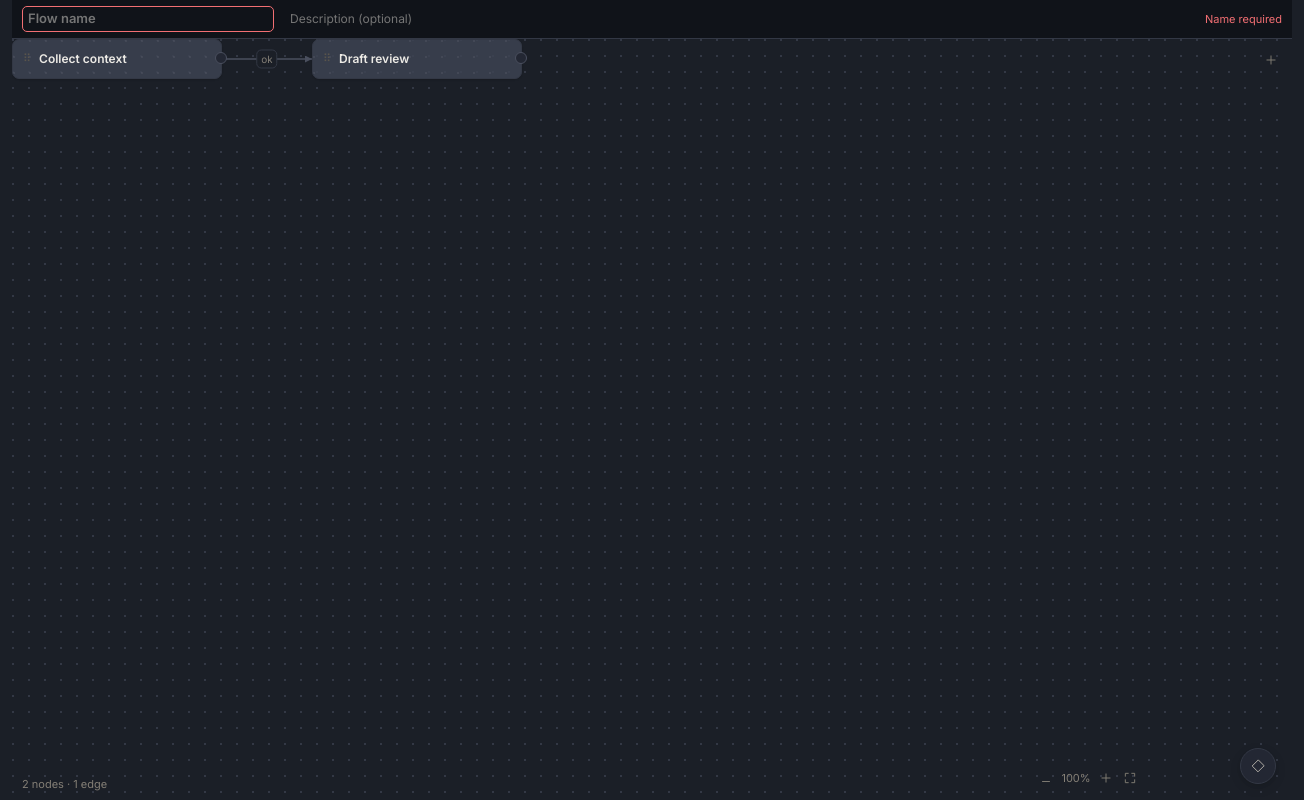
Test: the add menu (FLO-FR-07, FLO-FR-09, FLO-FR-15, FLO-FR-26 / FLO-FR-37, FLO-FR-38, FLO-FR-10) › dismisses the action control when it opens, and goes when the control does
Click the button named "Add to flow".
click(1271, 60)  # box x1=1258 y1=46 x2=1284 y2=72
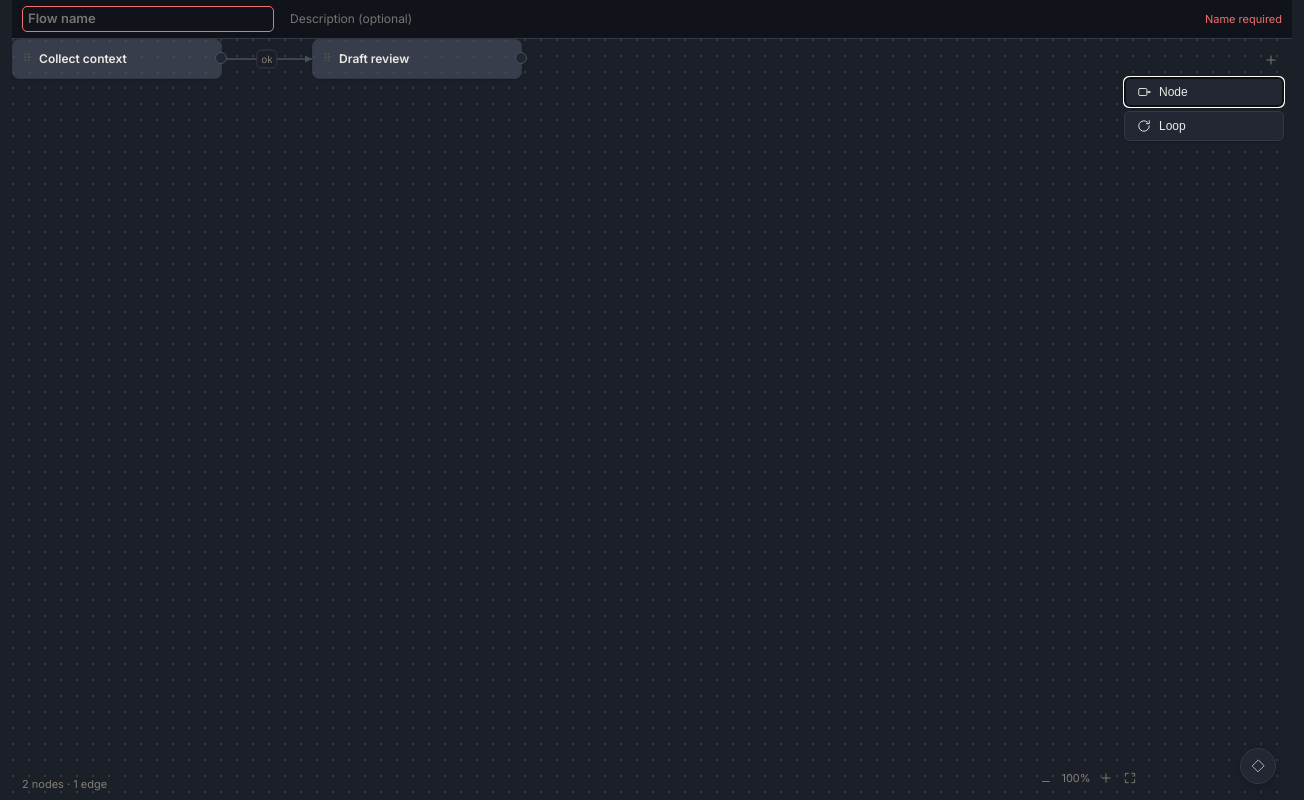
Now the menu with test id "flow-add-menu" is shown, box x1=1124 y1=76 x2=1284 y2=140
Click the button named "Actions".
click(1258, 766)  # box x1=1240 y1=748 x2=1276 y2=784
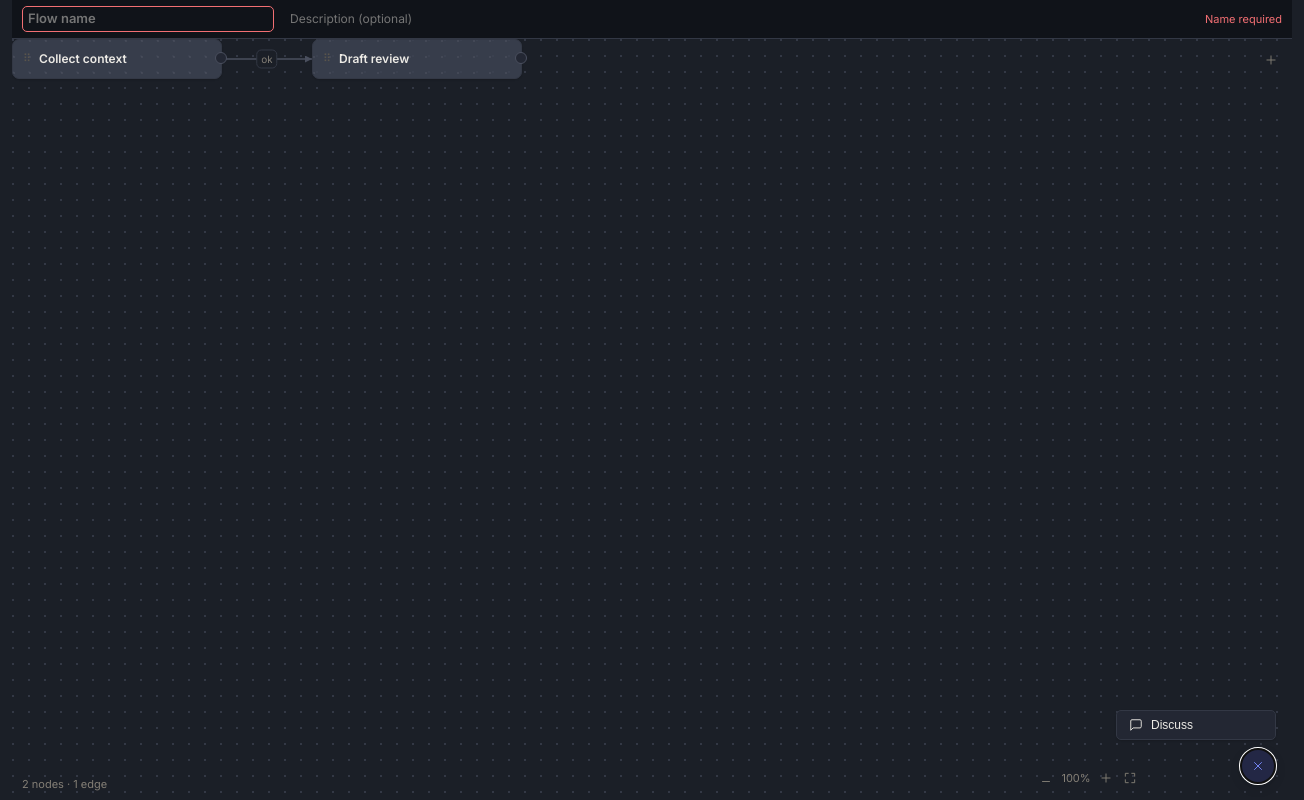
Now the menu with test id "flow-add-menu" is gone
Click the button named "Add to flow".
click(1271, 60)  # box x1=1258 y1=46 x2=1284 y2=72
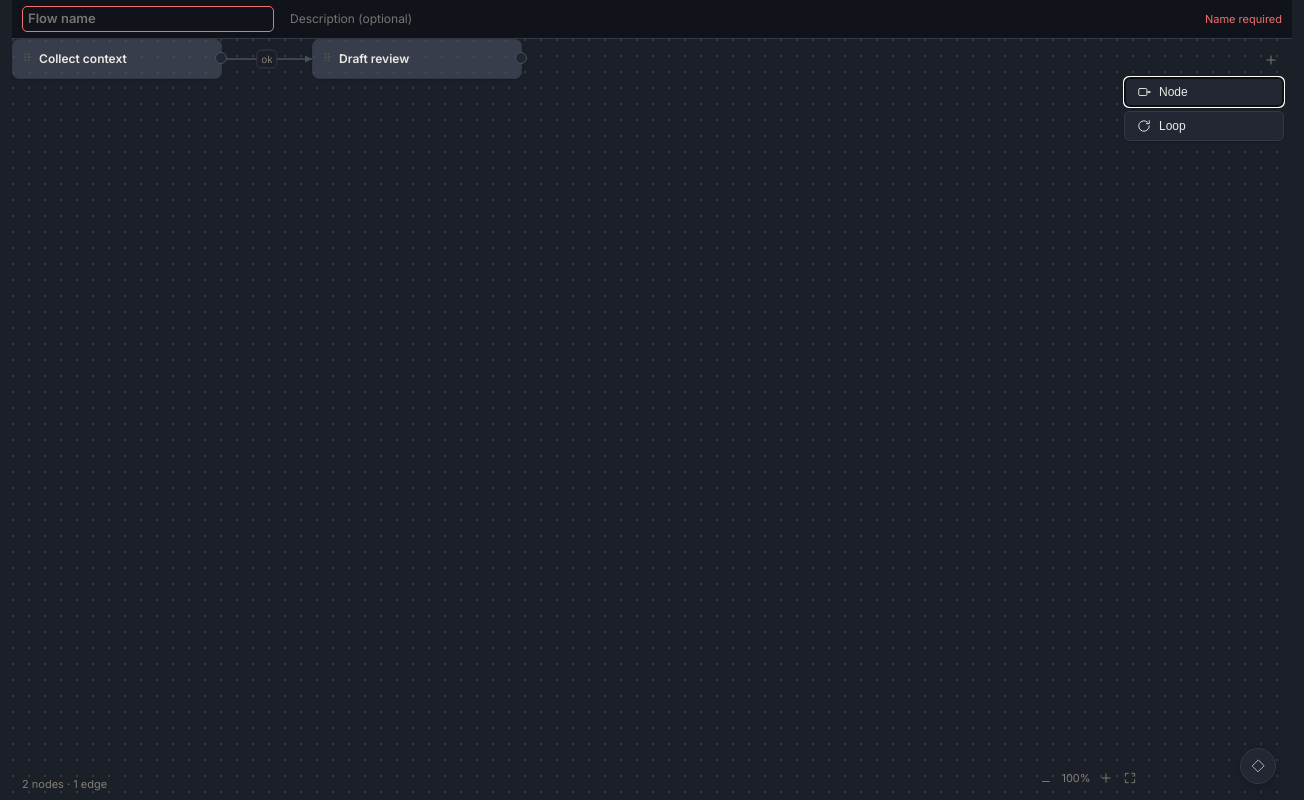
Now the menu with test id "flow-add-menu" is shown, box x1=1124 y1=76 x2=1284 y2=140
Now the menu item "Discuss" is gone
